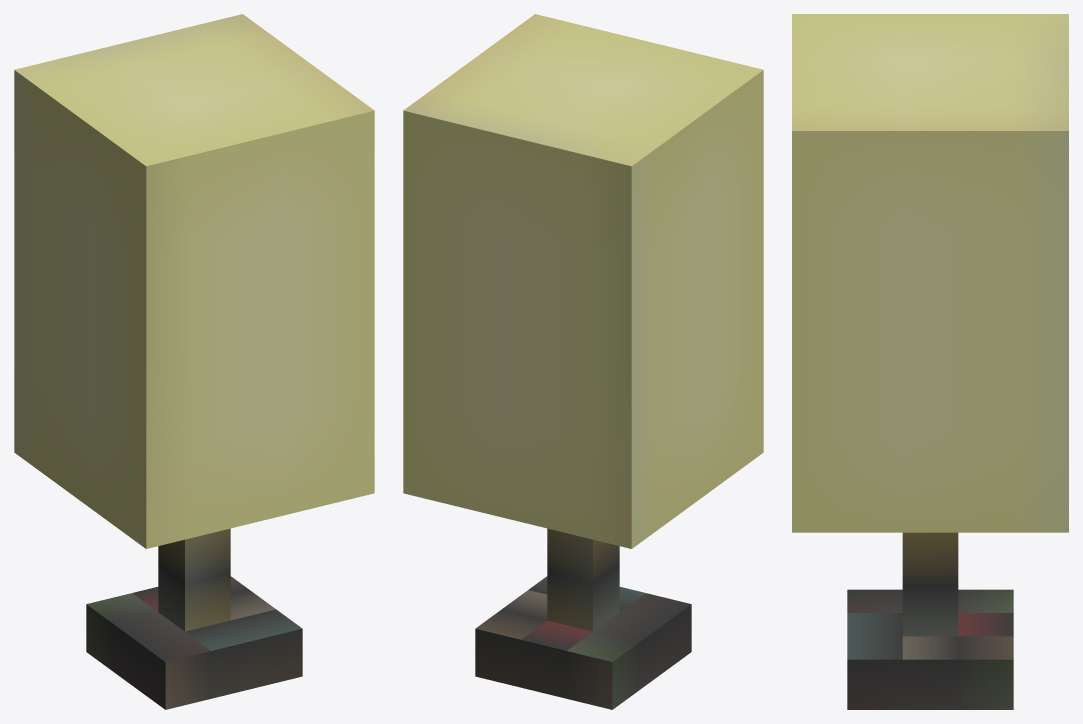
File: LampYellow_01.obj
The picture shows the model from 3 angles, left to right: view 1: azimuth 30°, elevation 25°; view 2: azimuth 150°, elevation 25°; view 3: azimuth 270°, elevation 25°; orthographic projection. The views are drawn at different scales.
Visible parts, largest first — view 1: LampYellow_01; view 2: LampYellow_01; view 3: LampYellow_01.
Boxes of the visible parts, x1=… form: LampYellow_01: x1=14, y1=14, x2=374, y2=709; LampYellow_01: x1=403, y1=14, x2=763, y2=709; LampYellow_01: x1=792, y1=14, x2=1068, y2=709.
Size of the model in its own units: 0.25 by 0.6 by 0.25.
